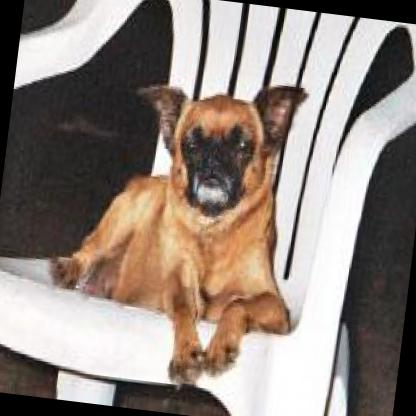Brabancon_griffon: (35, 57, 320, 398)
